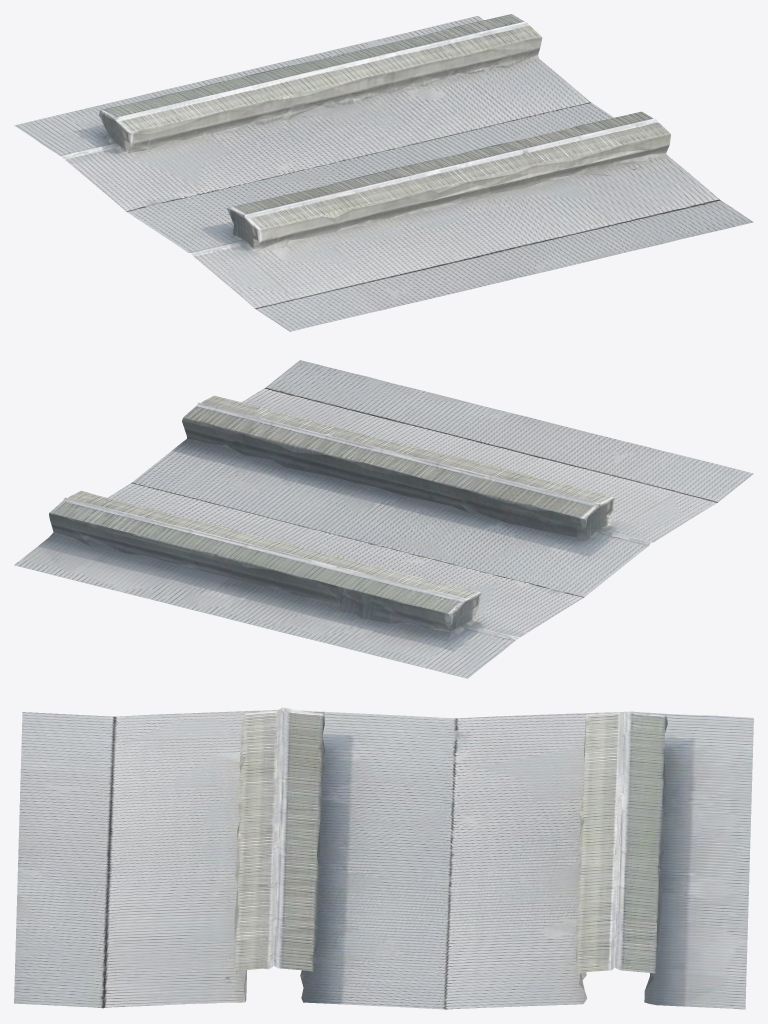
Rendered from Tile_+005_+005_L19_0uuuu1.glb.
3 views of the same model, one above another, from view 1: azimuth 30°, elevation 25°; view 2: azimuth 150°, elevation 25°; view 3: azimuth 270°, elevation 25° (orthographic). The views are drawn at different scales.
Parts seen in each view (by area): view 1: rtc; view 2: rtc; view 3: rtc.
Boxes of the visible parts, left/top/right/bottom form: rtc: left=14, top=14, right=753, bottom=331; rtc: left=14, top=360, right=753, bottom=678; rtc: left=14, top=707, right=753, bottom=1009.
Bounding box in the file's own units: 48.99 × 3.39 × 51.93.
Materials: 5 (5 with a texture image).
